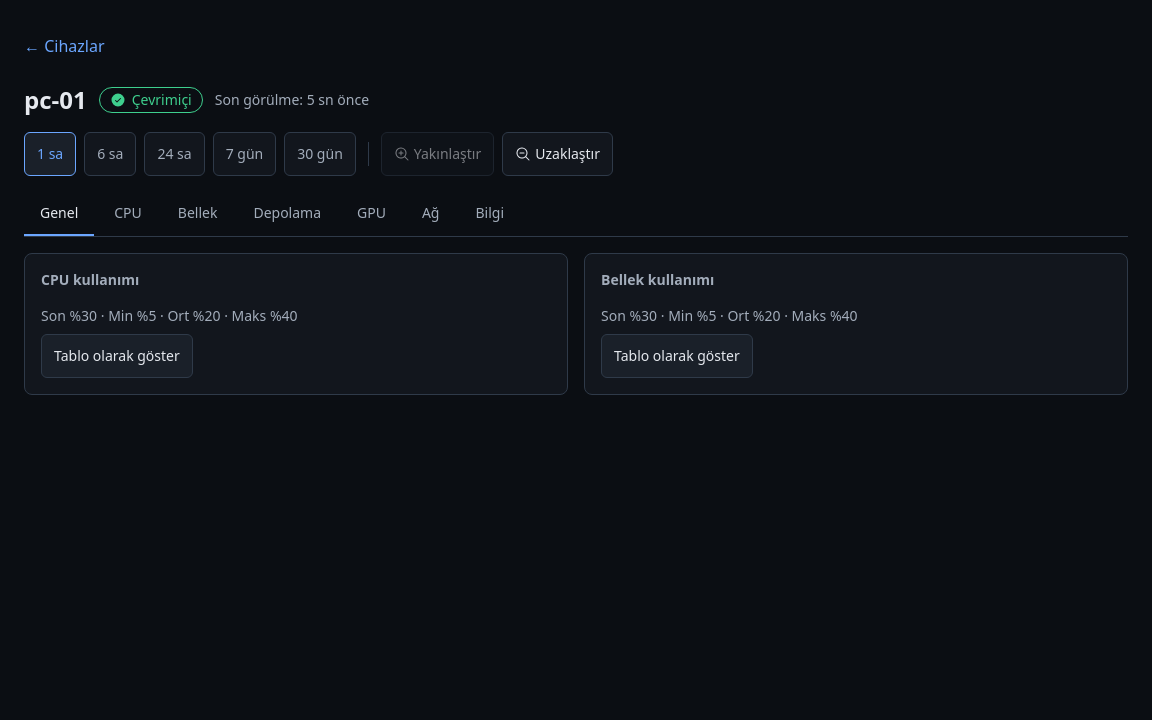
Test: zaman araligi, yakinlastirma, veri tablosu › veri tablosu: grafikle ayni veriyi gosterir (satir sayisi = nokta sayisi), dugme aria-expanded
Click the button "Tablo olarak göster" below "CPU kullanımı". click: (117,356)
box: x1=41 y1=334 x2=193 y2=378
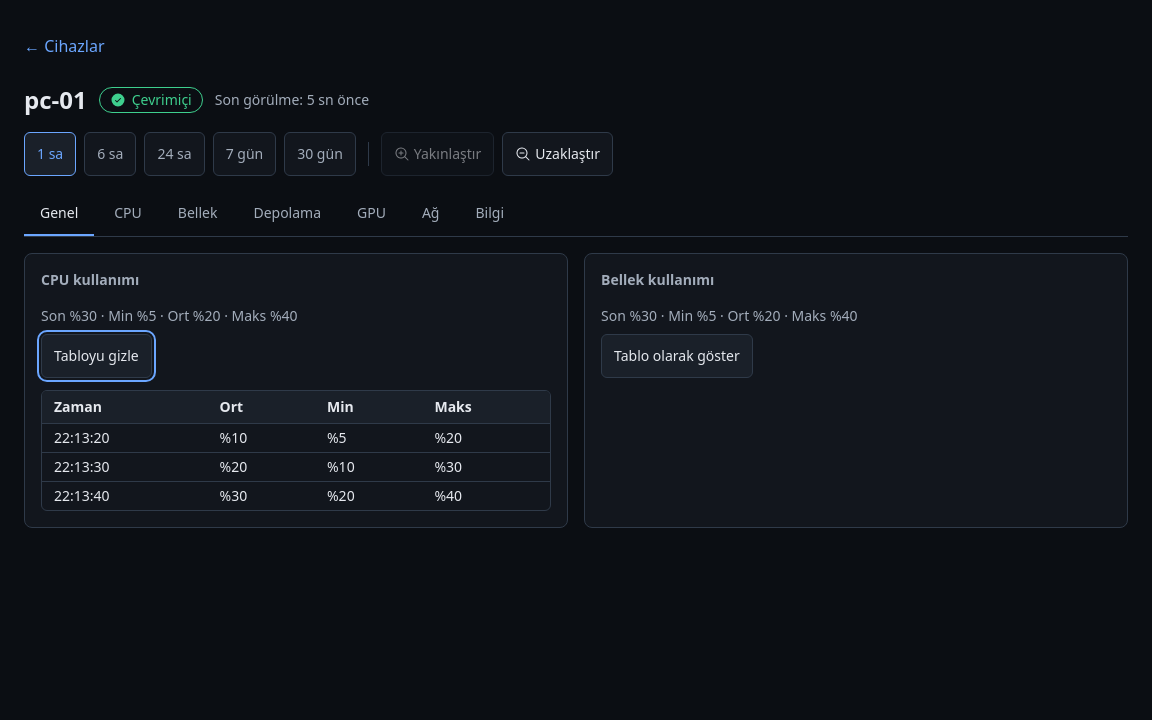
expect the button "Tabloyu gizle" is expanded: met, box x1=41 y1=334 x2=152 y2=378
expect the number of rows is 4: met, box x1=42 y1=391 x2=550 y2=423; x1=42 y1=424 x2=550 y2=452; x1=42 y1=452 x2=550 y2=482; x1=42 y1=482 x2=550 y2=510
expect the text "%40" is shown: met, box x1=422 y1=482 x2=550 y2=510
